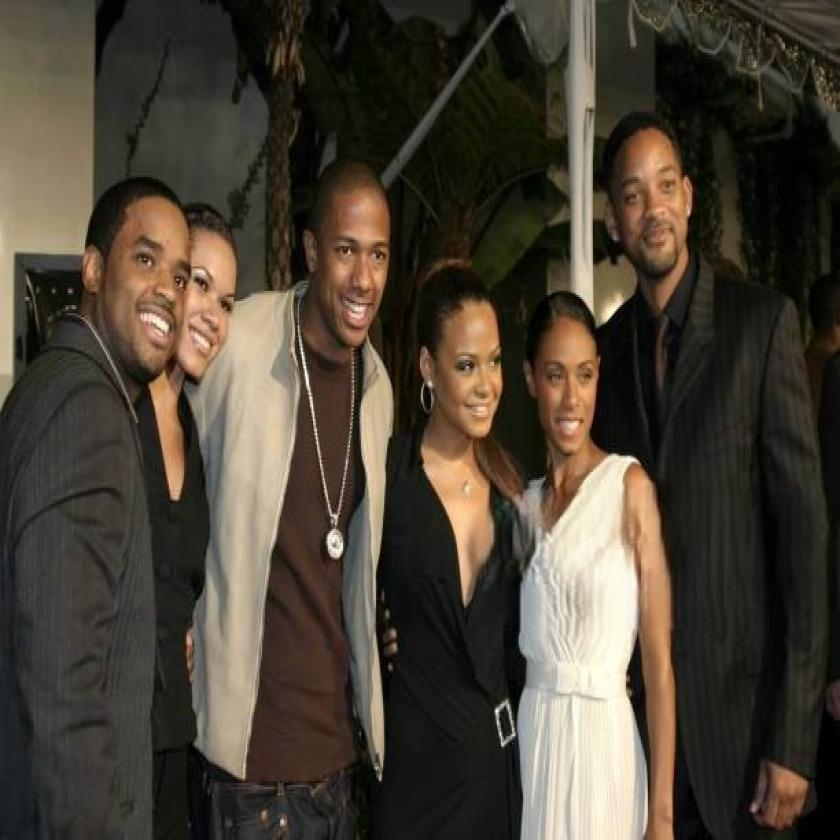Sin_casco: (79, 150, 187, 376), (598, 101, 702, 306), (417, 222, 510, 438), (302, 156, 398, 342), (520, 267, 612, 442), (187, 190, 245, 386)
